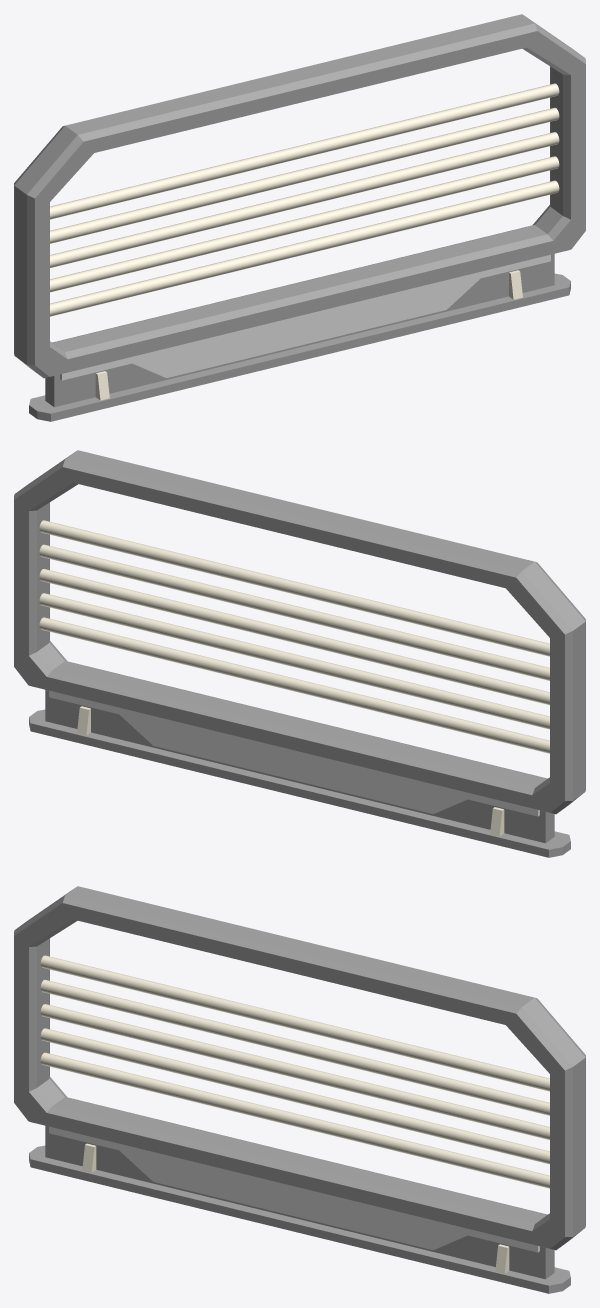
Rendered from S_Rambarde.fbx.
3 views of the same model, one above another, from view 1: azimuth 30°, elevation 25°; view 2: azimuth 150°, elevation 25°; view 3: azimuth 330°, elevation 25° (orthographic).
Parts seen in each view (by area): view 1: Rambarde; view 2: Rambarde; view 3: Rambarde.
Part boxes in pixels (x1=…): Rambarde: x1=14, y1=14, x2=585, y2=421; Rambarde: x1=14, y1=450, x2=585, y2=857; Rambarde: x1=14, y1=886, x2=585, y2=1293.
Size of what is drawn, in the model's own units: 230 by 15.01 by 109.
